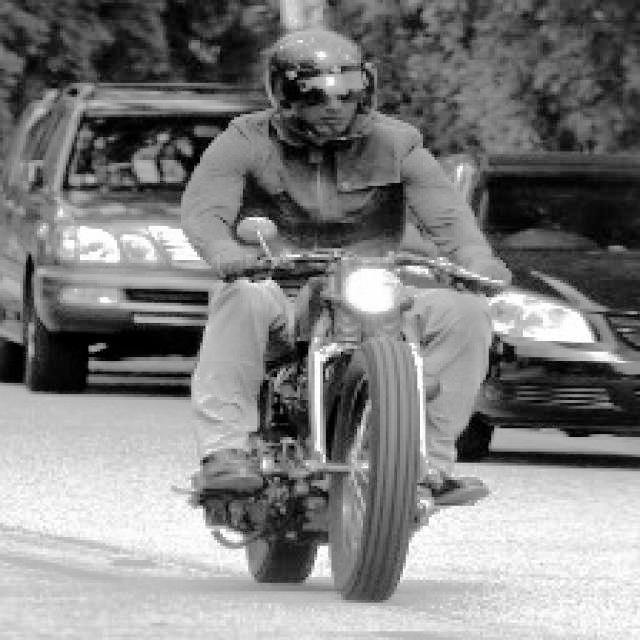Bike: (238, 256, 440, 615)
